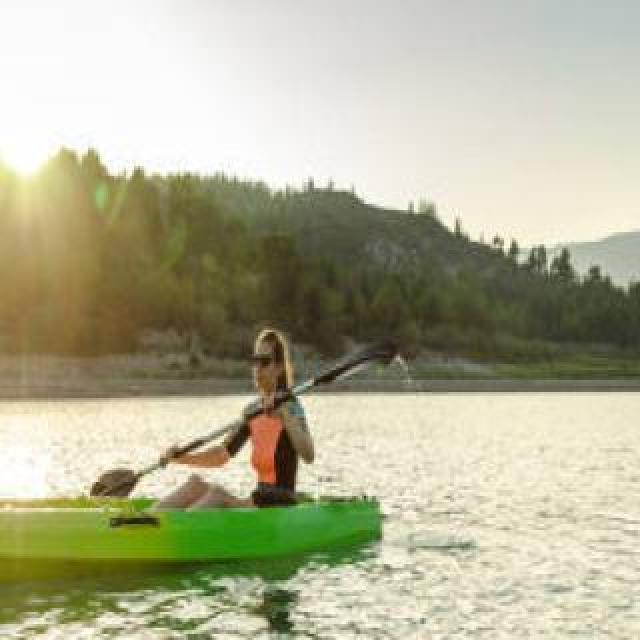kayak: (0, 461, 381, 580)
